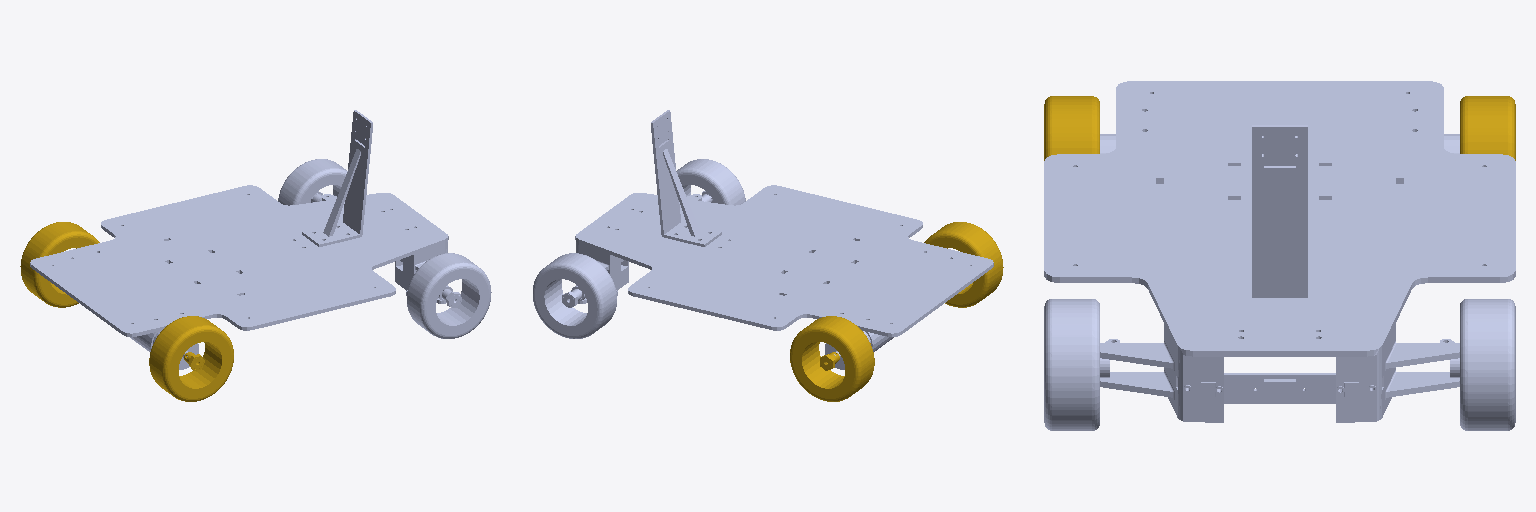
The robot description file, URDF, robot "urdf_latest":
<?xml version="1.0" encoding="utf-8"?>
<!-- This URDF was automatically created by SolidWorks to URDF Exporter! Originally created by [author] ([email redacted]) 
     Commit Version: 1.6.0-4-g7f85cfe  Build Version: 1.6.7995.38578
     For more information, please see http://wiki.ros.org/sw_urdf_exporter -->
<robot
  name="urdf_latest">
  <link
    name="base_link">
    <inertial>
      <origin
        xyz="-0.000231100476171808 6.21990214888513E-09 -0.0148754815796431"
        rpy="0 0 0" />
      <mass
        value="0.723731533085621" />
      <inertia
        ixx="0.00273550214547189"
        ixy="-4.84629719487281E-10"
        ixz="0.00048548168745002"
        iyy="0.00771136853796671"
        iyz="1.27964592506478E-10"
        izz="0.0102201832153108" />
    </inertial>
    <visual>
      <origin
        xyz="0 0 0"
        rpy="0 0 0" />
      <geometry>
        <mesh
          filename="package://adas_robot_description/meshes/base_link.STL" />
      </geometry>
      <material
        name="">
        <color
          rgba="0.792156862745098 0.819607843137255 0.933333333333333 1" />
      </material>
    </visual>
    <collision>
      <origin
        xyz="0 0 0"
        rpy="0 0 0" />
      <geometry>
        <mesh
          filename="package://adas_robot_description/meshes/base_link.STL" />
      </geometry>
    </collision>
  </link>
  <link
    name="left_rear">
    <inertial>
      <origin
        xyz="3.10904498124209E-06 5.37279659429402E-06 -0.0120230697296975"
        rpy="0 0 0" />
      <mass
        value="0.126363111272001" />
      <inertia
        ixx="7.94253978332532E-05"
        ixy="1.60497325337193E-09"
        ixz="2.88800419661742E-09"
        iyy="7.94272648265278E-05"
        iyz="5.03999377505508E-09"
        izz="0.00013565032153422" />
    </inertial>
    <visual>
      <origin
        xyz="0 0 0"
        rpy="0 0 0" />
      <geometry>
        <mesh
          filename="package://adas_robot_description/meshes/left_rear.STL" />
      </geometry>
      <material
        name="">
        <color
          rgba="0.827450980392157 0.666666666666667 0.129411764705882 1" />
      </material>
    </visual>
    <collision>
      <origin
        xyz="0 0 0"
        rpy="0 0 0" />
      <geometry>
        <mesh
          filename="package://adas_robot_description/meshes/left_rear.STL" />
      </geometry>
    </collision>
  </link>
  <joint
    name="leftrear"
    type="continuous">
    <origin
      xyz="-0.131112109546006 0.142499999999999 -0.028999999999994"
      rpy="-1.5707963267949 0 0" />
    <parent
      link="base_link" />
    <child
      link="left_rear" />
    <axis
      xyz="0 0 -1" />
    <limit
      effort="10"
      velocity="10" />
    <dynamics
      damping="0.1"
      friction="0.1" />
  </joint>
  <link
    name="right_rear">
    <inertial>
      <origin
        xyz="5.37279659434953E-06 3.10904498124209E-06 0.0120230697296975"
        rpy="0 0 0" />
      <mass
        value="0.126363111272001" />
      <inertia
        ixx="7.94272648265279E-05"
        ixy="1.6049732533684E-09"
        ixz="-5.03999377510644E-09"
        iyy="7.94253978332533E-05"
        iyz="-2.88800419664162E-09"
        izz="0.00013565032153422" />
    </inertial>
    <visual>
      <origin
        xyz="0 0 0"
        rpy="0 0 0" />
      <geometry>
        <mesh
          filename="package://adas_robot_description/meshes/right_rear.STL" />
      </geometry>
      <material
        name="">
        <color
          rgba="0.827450980392157 0.666666666666667 0.129411764705882 1" />
      </material>
    </visual>
    <collision>
      <origin
        xyz="0 0 0"
        rpy="0 0 0" />
      <geometry>
        <mesh
          filename="package://adas_robot_description/meshes/right_rear.STL" />
      </geometry>
    </collision>
  </link>
  <joint
    name="rightrear"
    type="continuous">
    <origin
      xyz="-0.131112109546005 -0.142499999999999 -0.0289999999999937"
      rpy="-1.5707963267949 0 0" />
    <parent
      link="base_link" />
    <child
      link="right_rear" />
    <axis
      xyz="0 0 1" />
    <limit
      effort="10"
      velocity="10" />
    <dynamics
      damping="0.1"
      friction="0.1" />
  </joint>
  <link
    name="left_front_knuckle">
    <inertial>
      <origin
        xyz="-0.0069195085927054 -0.00186567476953692 7.17221471102647E-09"
        rpy="0 0 0" />
      <mass
        value="0.0030084981775693" />
      <inertia
        ixx="1.25491838679359E-07"
        ixy="-1.00786553248517E-07"
        ixz="-1.81410099511428E-13"
        iyy="3.82810606265697E-07"
        iyz="-2.84698744470842E-14"
        izz="4.2336400843231E-07" />
    </inertial>
    <visual>
      <origin
        xyz="0 0 0"
        rpy="0 0 0" />
      <geometry>
        <mesh
          filename="package://adas_robot_description/meshes/left_front_knuckle.STL" />
      </geometry>
      <material
        name="">
        <color
          rgba="0.792156862745098 0.819607843137255 0.933333333333333 1" />
      </material>
    </visual>
    <collision>
      <origin
        xyz="0 0 0"
        rpy="0 0 0" />
      <geometry>
        <mesh
          filename="package://adas_robot_description/meshes/left_front_knuckle.STL" />
      </geometry>
    </collision>
  </link>
  <joint
    name="leftfrontknuckle"
    type="continuous">
    <origin
      xyz="0.169376641305686 0.11535109122836 -0.029000000051664"
      rpy="0 0 0" />
    <parent
      link="base_link" />
    <child
      link="left_front_knuckle" />
    <axis
      xyz="0 0 1" />
    <limit
      effort="10"
      velocity="10" />
    <dynamics
      damping="0.1"
      friction="0.1" />
  </joint>
  <link
    name="left_front">
    <inertial>
      <origin
        xyz="-0.00986676609693737 5.24995502093617E-06 -0.0101569567833888"
        rpy="0 0 0" />
      <mass
        value="0.126363111272001" />
      <inertia
        ixx="7.94255405774487E-05"
        ixy="-1.67990050048856E-09"
        ixz="-3.1203197493381E-09"
        iyy="7.94271220823325E-05"
        iyz="4.89956224317293E-09"
        izz="0.00013565032153422" />
    </inertial>
    <visual>
      <origin
        xyz="0 0 0"
        rpy="0 0 0" />
      <geometry>
        <mesh
          filename="package://adas_robot_description/meshes/left_front.STL" />
      </geometry>
      <material
        name="">
        <color
          rgba="0.792156862745098 0.819607843137255 0.933333333333333 1" />
      </material>
    </visual>
    <collision>
      <origin
        xyz="0 0 0"
        rpy="0 0 0" />
      <geometry>
        <mesh
          filename="package://adas_robot_description/meshes/left_front.STL" />
      </geometry>
    </collision>
  </link>
  <joint
    name="leftfront"
    type="continuous">
    <origin
      xyz="0.00937470298400156 0.025282795825291 0"
      rpy="-1.5707963267949 0 0" />
    <parent
      link="left_front_knuckle" />
    <child
      link="left_front" />
    <axis
      xyz="0 0 -1" />
    <limit
      effort="10"
      velocity="10" />
    <dynamics
      damping="0.1"
      friction="0.1" />
  </joint>
  <link
    name="right_front_knuckle">
    <inertial>
      <origin
        xyz="-0.00687145694189439 0.0022731090372714 -7.17204329259147E-09"
        rpy="0 0 0" />
      <mass
        value="0.00300849817756922" />
      <inertia
        ixx="1.25491838679379E-07"
        ixy="1.00786553248544E-07"
        ixz="1.81410096406909E-13"
        iyy="3.82810606265668E-07"
        iyz="-2.8469873122496E-14"
        izz="4.23364008432305E-07" />
    </inertial>
    <visual>
      <origin
        xyz="0 0 0"
        rpy="0 0 0" />
      <geometry>
        <mesh
          filename="package://adas_robot_description/meshes/right_front_knuckle.STL" />
      </geometry>
      <material
        name="">
        <color
          rgba="0.792156862745098 0.819607843137255 0.933333333333333 1" />
      </material>
    </visual>
    <collision>
      <origin
        xyz="0 0 0"
        rpy="0 0 0" />
      <geometry>
        <mesh
          filename="package://adas_robot_description/meshes/right_front_knuckle.STL" />
      </geometry>
    </collision>
  </link>
  <joint
    name="rightfrontknuckle"
    type="continuous">
    <origin
      xyz="0.169328589654865 -0.115758525496169 -0.0289999999484927"
      rpy="0 0 0" />
    <parent
      link="base_link" />
    <child
      link="right_front_knuckle" />
    <axis
      xyz="0 0 1" />
    <limit
      effort="10"
      velocity="10" />
    <dynamics
      damping="0.1"
      friction="0.1" />
  </joint>
  <link
    name="right_front">
    <inertial>
      <origin
        xyz="0.0117938008072664 1.35946038248846E-06 0.00930811369012874"
        rpy="0 0 0" />
      <mass
        value="0.126363111272" />
      <inertia
        ixx="7.9428005805697E-05"
        ixy="-8.02175722455012E-10"
        ixz="5.66233699547274E-09"
        iyy="7.94246568540842E-05"
        iyz="-1.29616563650809E-09"
        izz="0.00013565032153422" />
    </inertial>
    <visual>
      <origin
        xyz="0 0 0"
        rpy="0 0 0" />
      <geometry>
        <mesh
          filename="package://adas_robot_description/meshes/right_front.STL" />
      </geometry>
      <material
        name="">
        <color
          rgba="0.792156862745098 0.819607843137255 0.933333333333333 1" />
      </material>
    </visual>
    <collision>
      <origin
        xyz="0 0 0"
        rpy="0 0 0" />
      <geometry>
        <mesh
          filename="package://adas_robot_description/meshes/right_front.STL" />
      </geometry>
    </collision>
  </link>
  <joint
    name="rightfront"
    type="continuous">
    <origin
      xyz="-0.0122405568200503 -0.0240265184642974 0"
      rpy="-1.5707963267949 0 0" />
    <parent
      link="right_front_knuckle" />
    <child
      link="right_front" />
    <axis
      xyz="0 0 1" />
    <limit
      effort="10"
      velocity="10" />
    <dynamics
      damping="0.1"
      friction="0.1" />
  </joint>
  <link
    name="camera_link">
    <inertial>
      <origin
        xyz="-0.0135378287901173 -2.22044604925031E-16 -0.0353920751414981"
        rpy="0 0 0" />
      <mass
        value="0.0206168866869791" />
      <inertia
        ixx="3.30124777543458E-05"
        ixy="-1.10836983641972E-21"
        ixz="-9.30896580437687E-06"
        iyy="3.63405838134579E-05"
        iyz="2.79301204906822E-20"
        izz="7.02199919189421E-06" />
    </inertial>
    <visual>
      <origin
        xyz="0 0 0"
        rpy="0 0 0" />
      <geometry>
        <mesh
          filename="package://adas_robot_description/meshes/camera_link.STL" />
      </geometry>
      <material
        name="">
        <color
          rgba="0.792156862745098 0.819607843137255 0.933333333333333 1" />
      </material>
    </visual>
    <collision>
      <origin
        xyz="0 0 0"
        rpy="0 0 0" />
      <geometry>
        <mesh
          filename="package://adas_robot_description/meshes/camera_link.STL" />
      </geometry>
    </collision>
  </link>
  <joint
    name="cameralink"
    type="fixed">
    <origin
      xyz="0.141101715153465 0 0.0795664425483641"
      rpy="0 0 0" />
    <parent
      link="base_link" />
    <child
      link="camera_link" />
    <axis
      xyz="0 0 0" />
  </joint>
  <link
    name="tofL_link">
    <inertial>
      <origin
        xyz="0.000498097349045712 4.35778713738788E-05 1.11022302462516E-16"
        rpy="0 0 0" />
      <mass
        value="0.000175927587113891" />
      <inertia
        ixx="6.68861872319417E-09"
        ixy="4.69777437094648E-10"
        ixz="-2.05957414480004E-23"
        iyy="1.36013824667135E-09"
        iyz="5.2400724399669E-23"
        izz="5.44000214129389E-09" />
    </inertial>
    <visual>
      <origin
        xyz="0 0 0"
        rpy="0 0 0" />
      <geometry>
        <mesh
          filename="package://adas_robot_description/meshes/tofL_link.STL" />
      </geometry>
      <material
        name="">
        <color
          rgba="0.792156862745098 0.819607843137255 0.933333333333333 1" />
      </material>
    </visual>
    <collision>
      <origin
        xyz="0 0 0"
        rpy="0 0 0" />
      <geometry>
        <mesh
          filename="package://adas_robot_description/meshes/tofL_link.STL" />
      </geometry>
    </collision>
  </link>
  <joint
    name="tofLlink"
    type="fixed">
    <origin
      xyz="0.209266648376749 0.0478158555869712 -0.0270000000000002"
      rpy="0 0 0" />
    <parent
      link="base_link" />
    <child
      link="tofL_link" />
    <axis
      xyz="0 0 0" />
  </joint>
  <link
    name="tofR_link">
    <inertial>
      <origin
        xyz="0.000498097349045268 -4.35778713743229E-05 -1.11022302462516E-16"
        rpy="0 0 0" />
      <mass
        value="0.000175927587113894" />
      <inertia
        ixx="6.68861872319439E-09"
        ixy="-4.69777437094656E-10"
        ixz="-1.47027895515092E-23"
        iyy="1.36013824667135E-09"
        iyz="1.83646818735447E-24"
        izz="5.44000214129411E-09" />
    </inertial>
    <visual>
      <origin
        xyz="0 0 0"
        rpy="0 0 0" />
      <geometry>
        <mesh
          filename="package://adas_robot_description/meshes/tofR_link.STL" />
      </geometry>
      <material
        name="">
        <color
          rgba="0.792156862745098 0.819607843137255 0.933333333333333 1" />
      </material>
    </visual>
    <collision>
      <origin
        xyz="0 0 0"
        rpy="0 0 0" />
      <geometry>
        <mesh
          filename="package://adas_robot_description/meshes/tofR_link.STL" />
      </geometry>
    </collision>
  </link>
  <joint
    name="tofRlink"
    type="fixed">
    <origin
      xyz="0.209266648376749 -0.0478158555869701 -0.0270000000000002"
      rpy="0 0 0" />
    <parent
      link="base_link" />
    <child
      link="tofR_link" />
    <axis
      xyz="0 0 0" />
  </joint>
  <link
    name="lidar_link">
    <inertial>
      <origin
        xyz="0.00249999999999984 0 0"
        rpy="0 0 0" />
      <mass
        value="0.00149999999999999" />
      <inertia
        ixx="7.81249999999993E-08"
        ixy="1.50724988651505E-24"
        ixz="6.72032824314455E-25"
        iyy="3.12499999999995E-08"
        iyz="4.41264111722594E-24"
        izz="5.31249999999998E-08" />
    </inertial>
    <visual>
      <origin
        xyz="0 0 0"
        rpy="0 0 0" />
      <geometry>
        <mesh
          filename="package://adas_robot_description/meshes/lidar_link.STL" />
      </geometry>
      <material
        name="">
        <color
          rgba="0.792156862745098 0.819607843137255 0.933333333333333 1" />
      </material>
    </visual>
    <collision>
      <origin
        xyz="0 0 0"
        rpy="0 0 0" />
      <geometry>
        <mesh
          filename="package://adas_robot_description/meshes/lidar_link.STL" />
      </geometry>
    </collision>
  </link>
  <joint
    name="lidarlink"
    type="fixed">
    <origin
      xyz="0.210387890453994 0 -0.0270000000000002"
      rpy="0 0 0" />
    <parent
      link="base_link" />
    <child
      link="lidar_link" />
    <axis
      xyz="0 0 0" />
  </joint>
</robot>

--- What the picture shows (computed from the rendered views, not written in the file) ---
3 views of the same robot in one strip: view 1: azimuth 30°, elevation 25°; view 2: azimuth 150°, elevation 25°; view 3: azimuth 270°, elevation 25° (orthographic).
Robot: urdf_latest — 11 links, 10 joints (6 continuous, 4 fixed); root link base_link; default pose: every joint at zero.
Links seen in each view (by area): view 1: base_link, right_rear, right_front, camera_link, left_rear, left_front; view 2: base_link, left_rear, left_front, camera_link, right_rear, right_front; view 3: base_link, camera_link, left_front, right_front, left_rear, right_rear, lidar_link.
Link boxes in pixels (<box>): base_link: <box>30,185,448,369</box>; right_rear: <box>149,316,233,401</box>; right_front: <box>407,253,491,338</box>; camera_link: <box>302,110,372,246</box>; left_rear: <box>20,222,99,307</box>; left_front: <box>278,159,347,205</box>; base_link: <box>575,185,993,369</box>; left_rear: <box>790,316,874,401</box>; left_front: <box>533,253,616,338</box>; camera_link: <box>651,110,721,246</box>; right_rear: <box>924,222,1003,307</box>; right_front: <box>676,159,745,205</box>; base_link: <box>1044,81,1515,422</box>; camera_link: <box>1252,125,1307,297</box>; left_front: <box>1460,299,1515,430</box>; right_front: <box>1044,299,1099,430</box>; left_rear: <box>1460,96,1515,160</box>; right_rear: <box>1044,96,1099,160</box>; lidar_link: <box>1264,379,1295,403</box>.
Size in the robot's own frame: 0.405 by 0.295 by 0.1951 metres.
Meshes: 11 distinct files referenced, 11 mesh visuals loaded (11 binary STL).